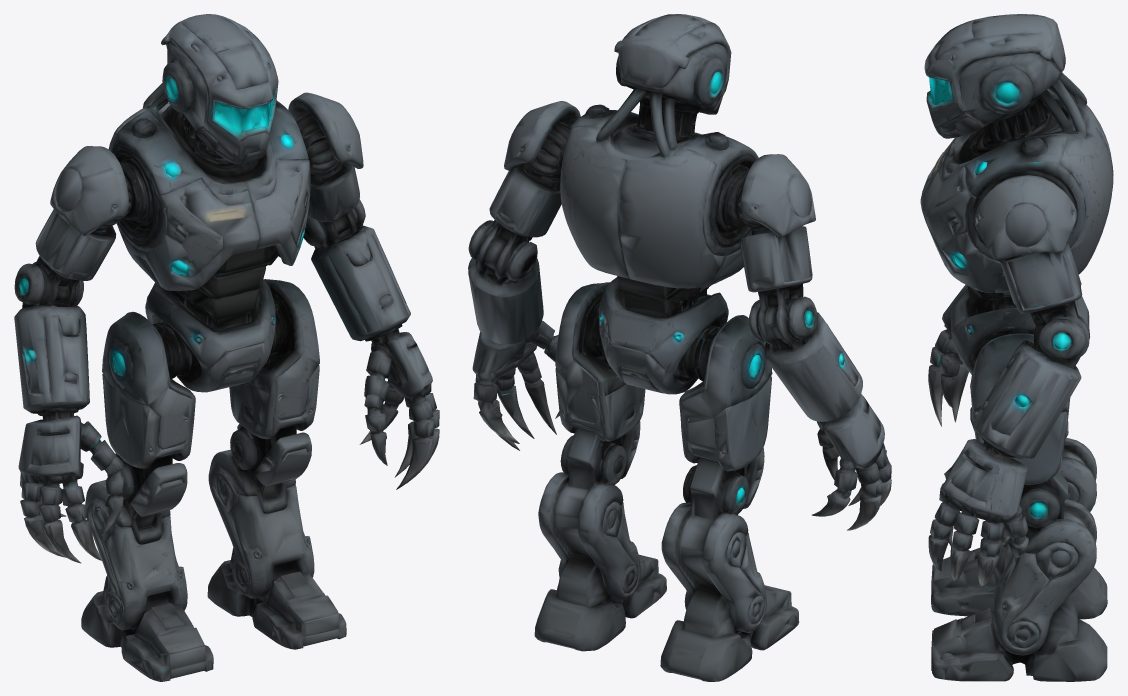
Rendered from mechanic_robot.glb.
3 renders of one model, left to right at view 1: azimuth 30°, elevation 25°; view 2: azimuth 150°, elevation 25°; view 3: azimuth 270°, elevation 25°, orthographic.
Visible parts, largest first — view 1: node_0; view 2: node_0; view 3: node_0.
Boxes of the visible parts, <box> form: node_0: <box>14,14,439,681</box>; node_0: <box>468,14,891,681</box>; node_0: <box>920,14,1113,681</box>.
Size of the model in its own units: 0.7834 by 1.12 by 0.3182.
1 material, 1 textured.
